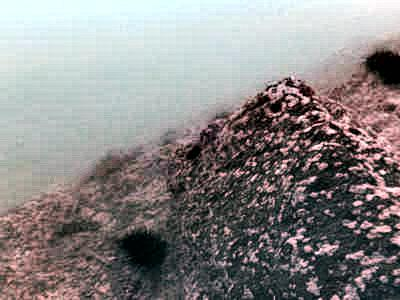urchin: (116, 223, 169, 273), (366, 46, 394, 88)
